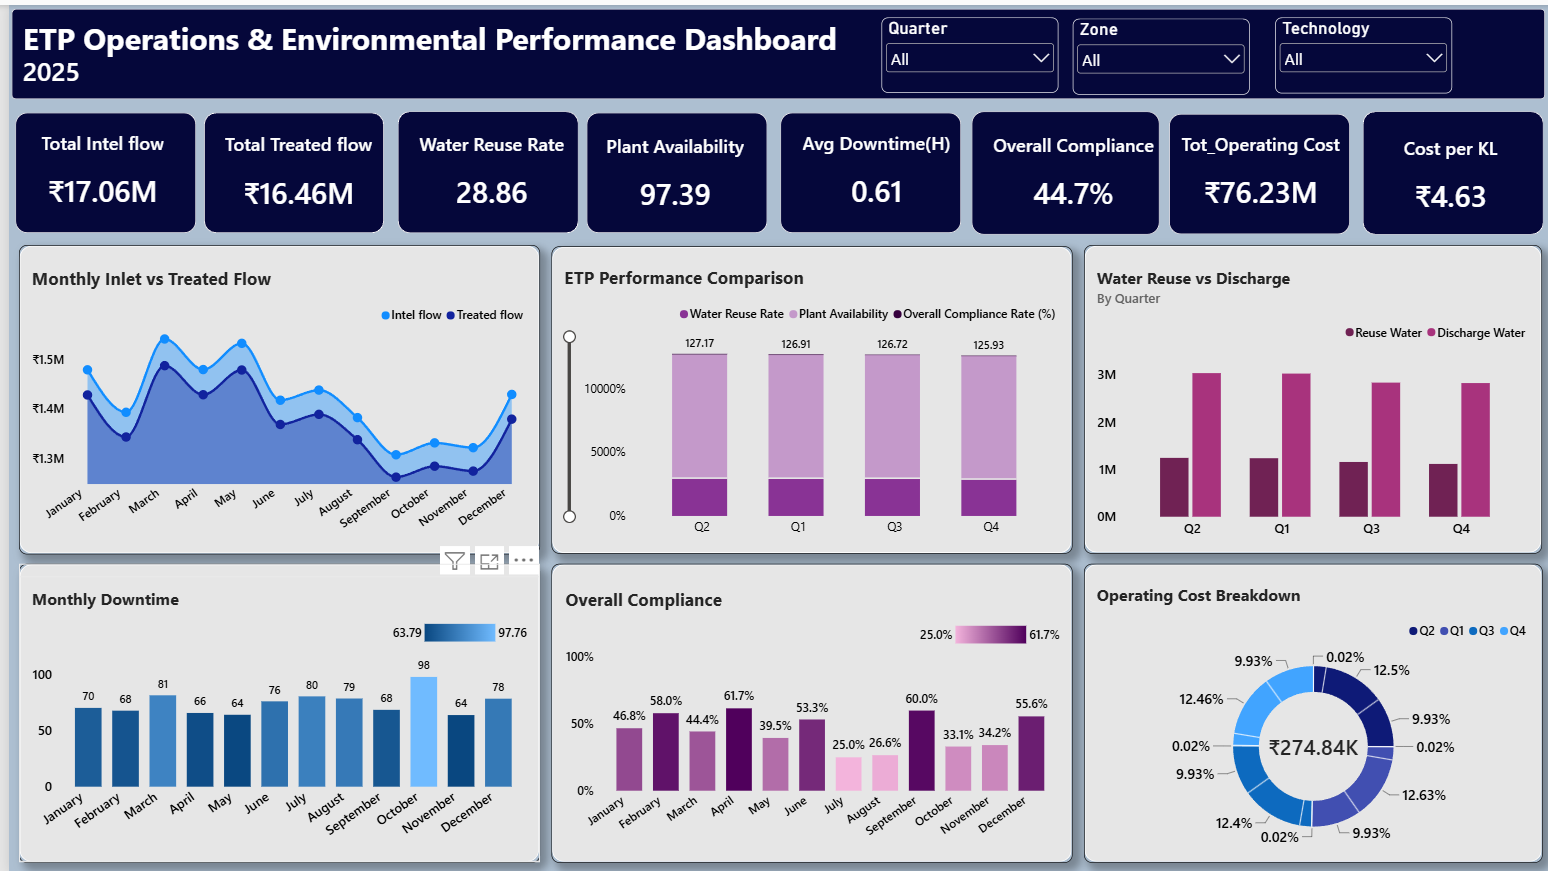

Layout of this report page (visuals, bound fields, positions):
{"tool":"powerbi","page":{"name":"Operational Performance","canvas":[1920,1080],"ordinal":1},"visuals":[{"type":"shape","box":[3.6,5.4,1907.1,112.5],"z":0},{"type":"group","id":"g1","title":"Group 3","box":[584,128.6,250,151.8],"z":0,"group":"g14"},{"type":"shape","box":[584,128.6,250,151.8],"z":0,"group":"g1"},{"type":"group","id":"g2","title":"Group 4","box":[852.5,130.4,250,150],"z":0,"group":"g15"},{"type":"shape","box":[852.5,130.4,250,150],"z":0,"group":"g2"},{"type":"shape","box":[1127.7,130.4,250,150],"z":0,"group":"g5"},{"type":"shape","box":[1395.4,130.4,250,153.6],"z":0,"group":"g6"},{"type":"shape","box":[44.6,132.1,250,150],"z":0,"group":"g3"},{"type":"shape","box":[312.5,133.9,250,150],"z":0,"group":"g4"},{"type":"shape","box":[1663,134.2,240.5,150],"z":0,"group":"g7"},{"type":"shape","box":[12.6,297.8,647.9,384.4],"z":0,"group":"g8"},{"type":"shape","box":[677.7,694.2,644.4,371.2],"z":0,"group":"g11"},{"type":"shape","box":[12.6,694.9,647.9,371.8],"z":0,"group":"g12"},{"type":"group","id":"g3","title":"Group 1","box":[44.6,132.1,250,150],"z":1000},{"type":"cardVisual","fields":{"Data":["Daily_Operations.Total Treated flow"]},"box":[317.9,137.1,217.6,126.5],"z":1000,"group":"g4"},{"type":"cardVisual","fields":{"Data":["Daily_Operations.Total Intel flow"]},"box":[49.9,142,231.9,126.5],"z":1000,"group":"g3"},{"type":"shape","box":[1337.8,297.8,569.9,383.7],"z":1000,"group":"g23"},{"type":"shape","box":[673.2,298.5,647.9,382.6],"z":1000,"group":"g10"},{"type":"shape","box":[1337.4,694.9,570.3,371.8],"z":1000,"group":"g24"},{"type":"group","id":"g4","title":"Group 2","box":[312.5,133.9,250,150],"z":2000},{"type":"textbox","box":[17.9,16.1,1039.3,62.5],"z":3000},{"type":"cardVisual","fields":{"Data":["Daily_Operations.Total_Oparating_Time"]},"box":[848.2,141.1,281,126.8],"z":3000,"group":"g15"},{"type":"cardVisual","fields":{"Data":["ETP_Master.Capacity Utilization"]},"box":[577.1,143.7,260.7,126.8],"z":3000,"group":"g14"},{"type":"slicer","fields":{"Values":["ETP_Master.Zone"]},"box":[1323.2,17.9,219.6,94.6],"z":4000},{"type":"slicer","fields":{"Values":["ETP_Master.Technology"]},"box":[1575,16.1,219.6,94.6],"z":5000},{"type":"group","id":"g5","title":"Group 5","box":[1127.7,130.4,250,150],"z":5000,"group":"g16"},{"type":"textbox","box":[17.9,60.7,133.9,50],"z":6000},{"type":"group","id":"g6","title":"Group 6","box":[1395.4,130.4,250,153.6],"z":6000,"group":"g18"},{"type":"group","id":"g7","title":"Group 7","box":[1663,134.2,240.5,150],"z":7000,"group":"g22"},{"type":"group","id":"g8","title":"Group 9","box":[12.6,297.8,647.9,384.4],"z":7000},{"type":"group","id":"g9","title":"Group 11","box":[1337.4,297.8,570.3,384.4],"z":8000},{"type":"group","id":"g10","title":"Group 10","box":[673.2,298.5,648.2,382.1],"z":8000,"group":"g19"},{"type":"slicer","fields":{"Values":["Calendar.Quarter"]},"box":[1084.7,16.2,220.2,93.9],"z":9000},{"type":"group","id":"g11","title":"Group 13","box":[677.7,694.2,644.4,371.2],"z":10000,"group":"g21"},{"type":"group","id":"g12","title":"Group 12","box":[12.6,694.9,647.9,371.8],"z":10000,"group":"g20"},{"type":"group","id":"g13","title":"Group 14","box":[1337.4,694.9,570.3,371.8],"z":10000},{"type":"group","id":"g14","title":"Group 15","box":[577.1,128.6,260.7,151.8],"z":11000},{"type":"group","id":"g15","title":"Group 16","box":[848.2,130.4,280.4,150],"z":12000},{"type":"group","id":"g16","title":"Group 17","box":[1127.7,130.4,250,150],"z":13000},{"type":"group","id":"g17","title":"Group 8","box":[1663,134.2,250,150],"z":14000},{"type":"group","id":"g18","title":"Group 18","box":[1395.4,130.4,250,153.6],"z":15000},{"type":"group","id":"g19","title":"Group 20","box":[673.2,298.5,650,382.1],"z":16000},{"type":"lineStackedColumnComboChart","title":"Treated flow vs capacity","fields":{"Category":["ETP_Master.ETP_Name"],"Y":["Daily_Operations.Total Treated flow"],"Y2":["ETP_Master.Capacity Utilization"]},"box":[1337.4,309.5,569.9,372.7],"z":16002,"group":"g23"},{"type":"donutChart","title":"Zone comparison","fields":{"Category":["ETP_Master.Zone"],"Y":["Daily_Operations.Total Treated flow","Daily_Operations.Total Intel flow"]},"box":[1337.4,705.6,570.3,361.1],"z":16007,"group":"g24"},{"type":"group","id":"g20","title":"Group 22","box":[12.2,694.9,648.4,371.8],"z":17000},{"type":"group","id":"g21","title":"Group 23","box":[673.3,694.2,648.8,371.5],"z":18000},{"type":"group","id":"g22","title":"Group 19","box":[1663,134.2,250,150],"z":18001,"group":"g17"},{"type":"gauge","title":"Capacity utilization","fields":{"Y":["Sum(ETP_Master.Capacity_KLD)"],"MinValue":["ETP_Master.Capacity Utilization"]},"box":[675,318.1,648.2,362.5],"z":18001,"group":"g19"},{"type":"areaChart","title":" Monthly treatment efficiency","fields":{"Category":["Calendar.Month"],"Y":["Daily_Operations.Total Treatment Efficiency"]},"box":[12.2,706.4,647.1,359.3],"z":18001,"group":"g20"},{"type":"group","id":"g23","title":"Group 21","box":[1337.4,297.8,570.3,384.4],"z":18003,"group":"g9"},{"type":"clusteredColumnChart","title":"Inlet Flow vs Treated Flow Trend","fields":{"Category":["Calendar.Month"],"Y":["Daily_Operations.Total Intel flow","Daily_Operations.Total Treated flow"]},"box":[12.3,309.5,647.2,371.1],"z":19000},{"type":"lineClusteredColumnComboChart","title":" Downtime trend","fields":{"Category":["Calendar.Month"],"Y":["Daily_Operations.Total Downtime"]},"box":[673.3,706.7,648,359],"z":19000,"group":"g21"},{"type":"group","id":"g24","title":"Group 24","box":[1337.4,694.9,570.3,371.8],"z":19002,"group":"g13"},{"type":"cardVisual","fields":{"Data":["Daily_Operations.Total Downtime"]},"box":[1127.7,142.9,250,126.8],"z":20001,"group":"g16"},{"type":"cardVisual","fields":{"Data":["ETP_Master.Availability"]},"box":[1399.4,143.3,235.7,126.8],"z":20001,"group":"g18"},{"type":"cardVisual","fields":{"Data":["Daily_Operations.Water Reuse Rate"]},"box":[1663,143.1,250,126.8],"z":20004,"group":"g22"}]}

Visuals, with their boxes in screenshot pixels (x1, y1, x2, y2), scaled from the page's 1920x1080 canvas onto the 1548x871 screenshot:
shape: box=[3, 4, 1541, 95]
"Group 3" group: box=[471, 104, 672, 226]
shape: box=[471, 104, 672, 226]
"Group 4" group: box=[687, 105, 889, 226]
shape: box=[687, 105, 889, 226]
shape: box=[909, 105, 1111, 226]
shape: box=[1125, 105, 1327, 229]
shape: box=[36, 107, 238, 228]
shape: box=[252, 108, 454, 229]
shape: box=[1341, 108, 1535, 229]
shape: box=[10, 240, 533, 550]
shape: box=[546, 560, 1066, 859]
shape: box=[10, 560, 533, 860]
"Group 1" group: box=[36, 107, 238, 228]
cardVisual - Daily_Operations.Total Treated flow: box=[256, 111, 432, 213]
cardVisual - Daily_Operations.Total Intel flow: box=[40, 115, 227, 217]
shape: box=[1079, 240, 1538, 550]
shape: box=[543, 241, 1065, 549]
shape: box=[1078, 560, 1538, 860]
"Group 2" group: box=[252, 108, 454, 229]
textbox: box=[14, 13, 852, 63]
cardVisual - Daily_Operations.Total_Oparating_Time: box=[684, 114, 910, 216]
cardVisual - ETP_Master.Capacity Utilization: box=[465, 116, 675, 218]
slicer - ETP_Master.Zone: box=[1067, 14, 1244, 91]
slicer - ETP_Master.Technology: box=[1270, 13, 1447, 89]
"Group 5" group: box=[909, 105, 1111, 226]
textbox: box=[14, 49, 122, 89]
"Group 6" group: box=[1125, 105, 1327, 229]
"Group 7" group: box=[1341, 108, 1535, 229]
"Group 9" group: box=[10, 240, 533, 550]
"Group 11" group: box=[1078, 240, 1538, 550]
"Group 10" group: box=[543, 241, 1065, 549]
slicer - Calendar.Quarter: box=[875, 13, 1052, 89]
"Group 13" group: box=[546, 560, 1066, 859]
"Group 12" group: box=[10, 560, 533, 860]
"Group 14" group: box=[1078, 560, 1538, 860]
"Group 15" group: box=[465, 104, 675, 226]
"Group 16" group: box=[684, 105, 910, 226]
"Group 17" group: box=[909, 105, 1111, 226]
"Group 8" group: box=[1341, 108, 1542, 229]
"Group 18" group: box=[1125, 105, 1327, 229]
"Group 20" group: box=[543, 241, 1067, 549]
"Treated flow vs capacity" lineStackedColumnComboChart: box=[1078, 250, 1538, 550]
"Zone comparison" donutChart: box=[1078, 569, 1538, 860]
"Group 22" group: box=[10, 560, 533, 860]
"Group 23" group: box=[543, 560, 1066, 859]
"Group 19" group: box=[1341, 108, 1542, 229]
"Capacity utilization" gauge: box=[544, 257, 1067, 549]
" Monthly treatment efficiency" areaChart: box=[10, 570, 532, 859]
"Group 21" group: box=[1078, 240, 1538, 550]
"Inlet Flow vs Treated Flow Trend" clusteredColumnChart: box=[10, 250, 532, 549]
" Downtime trend" lineClusteredColumnComboChart: box=[543, 570, 1065, 859]
"Group 24" group: box=[1078, 560, 1538, 860]
cardVisual - Daily_Operations.Total Downtime: box=[909, 115, 1111, 218]
cardVisual - ETP_Master.Availability: box=[1128, 116, 1318, 218]
cardVisual - Daily_Operations.Water Reuse Rate: box=[1341, 115, 1542, 218]
